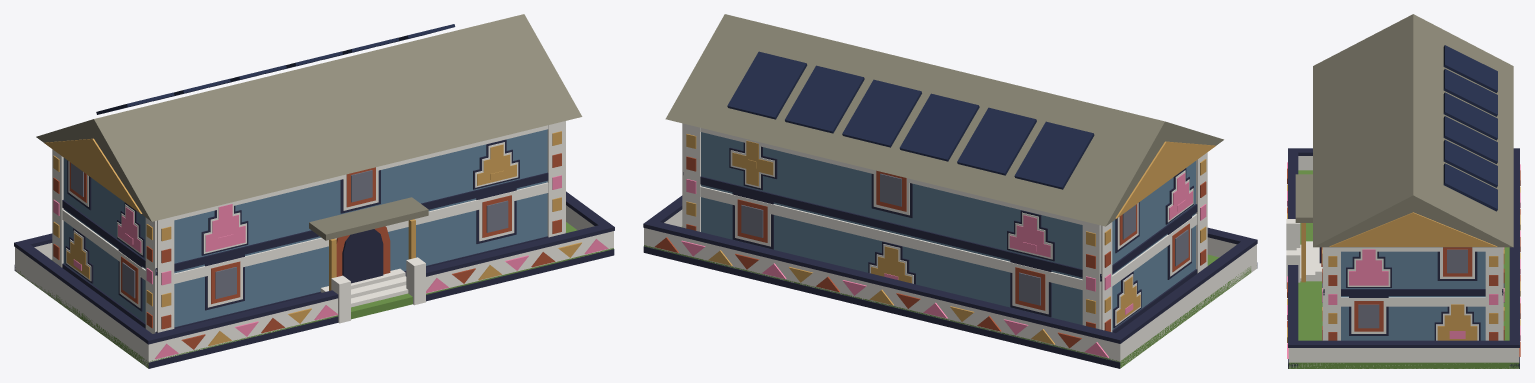
Rendered from house-2x1-2f-third-ndebele-a-solar.glb.
The picture shows the model from 3 angles, left to right: view 1: azimuth 30°, elevation 25°; view 2: azimuth 150°, elevation 25°; view 3: azimuth 270°, elevation 25°; orthographic projection. The views are drawn at different scales.
Visible parts, largest first — view 1: house-2x1-2f-third-ndebele-a-solar; view 2: house-2x1-2f-third-ndebele-a-solar; view 3: house-2x1-2f-third-ndebele-a-solar.
Part boxes in pixels (box(x1,y1,x2,y2)): house-2x1-2f-third-ndebele-a-solar: box(14, 14, 614, 368); house-2x1-2f-third-ndebele-a-solar: box(643, 14, 1257, 368); house-2x1-2f-third-ndebele-a-solar: box(1286, 14, 1520, 368).
Bounding box in the file's own units: 1.99 × 0.7865 × 1.01.
1 material, 1 textured.
